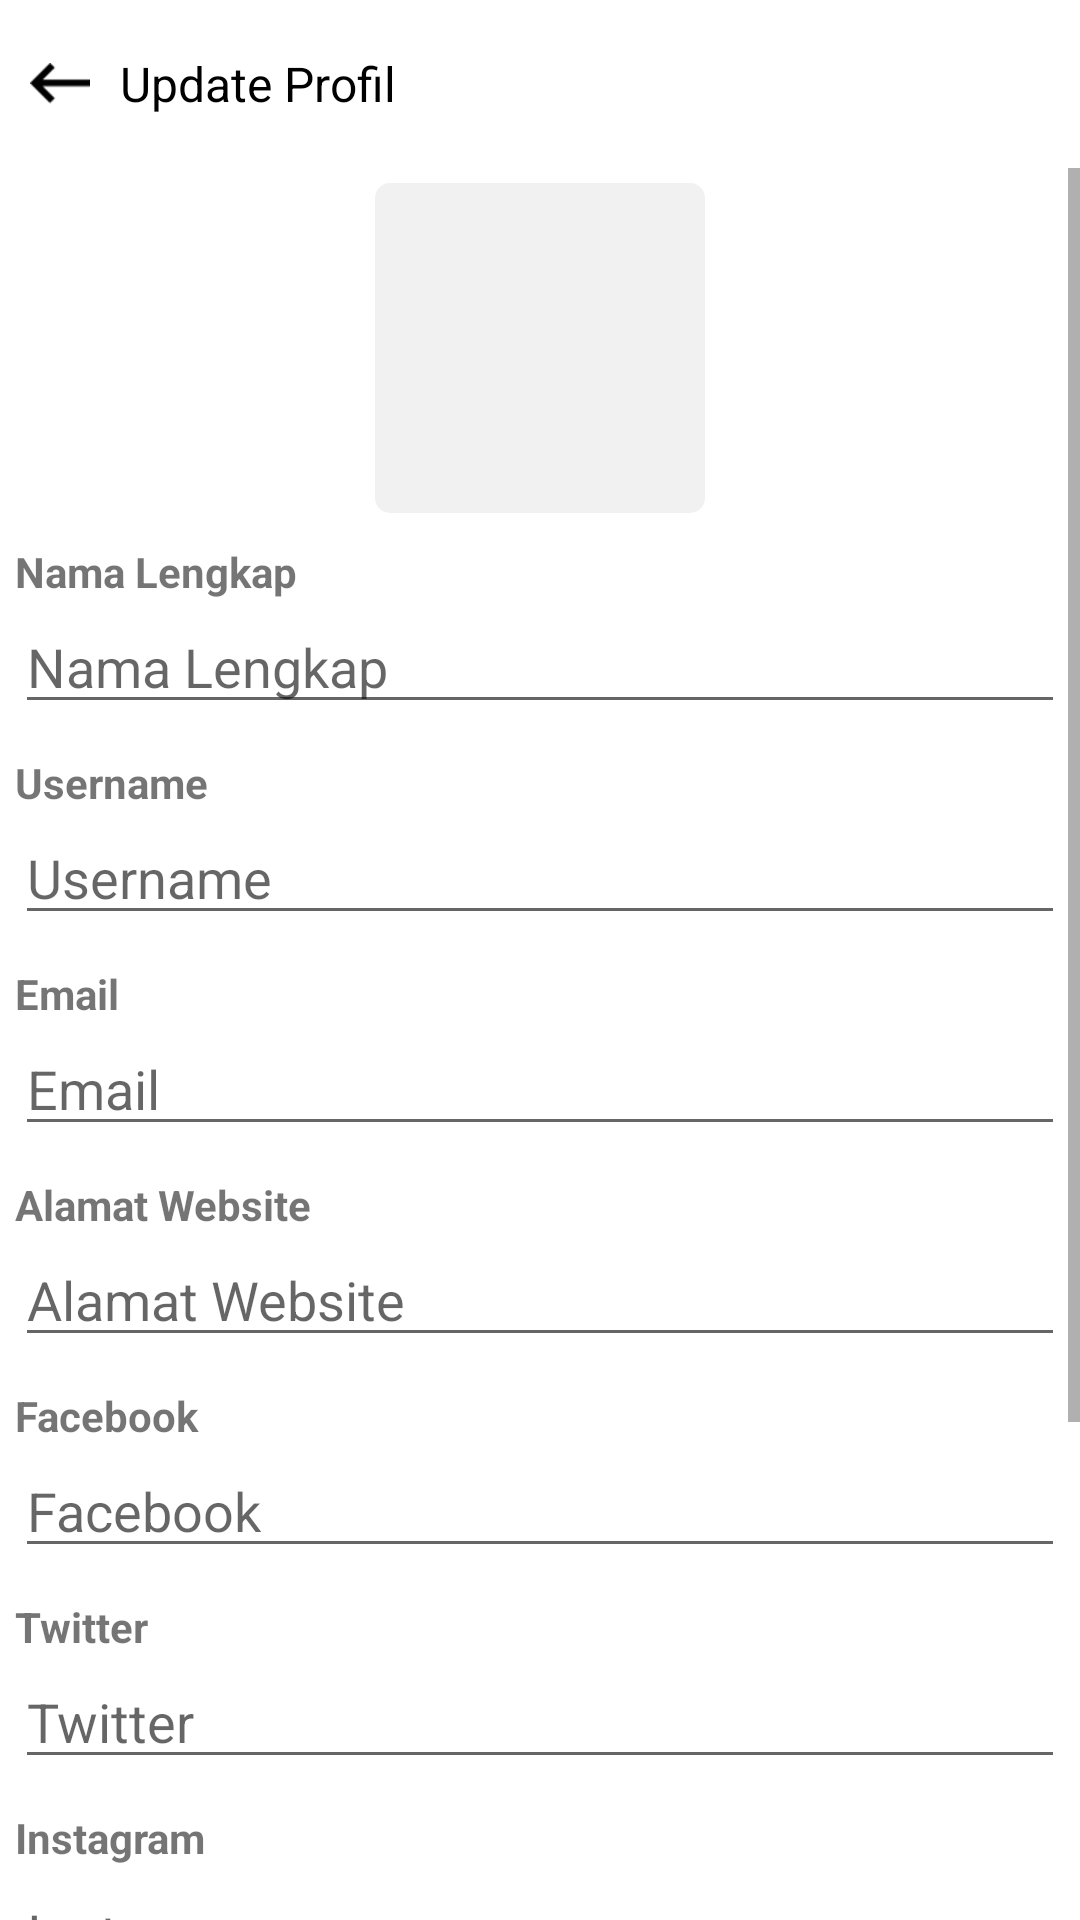

Screen size 1080*1920. Icon name, then its center in pixels as [x,y]:
back: [60,83]
